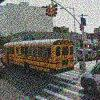buses: (0, 37, 77, 76)
